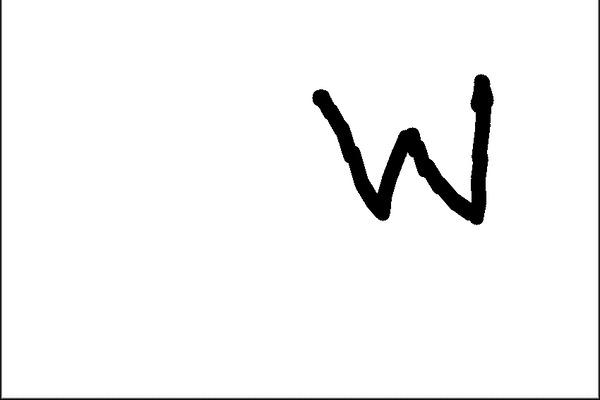w: (293, 63, 500, 236)
